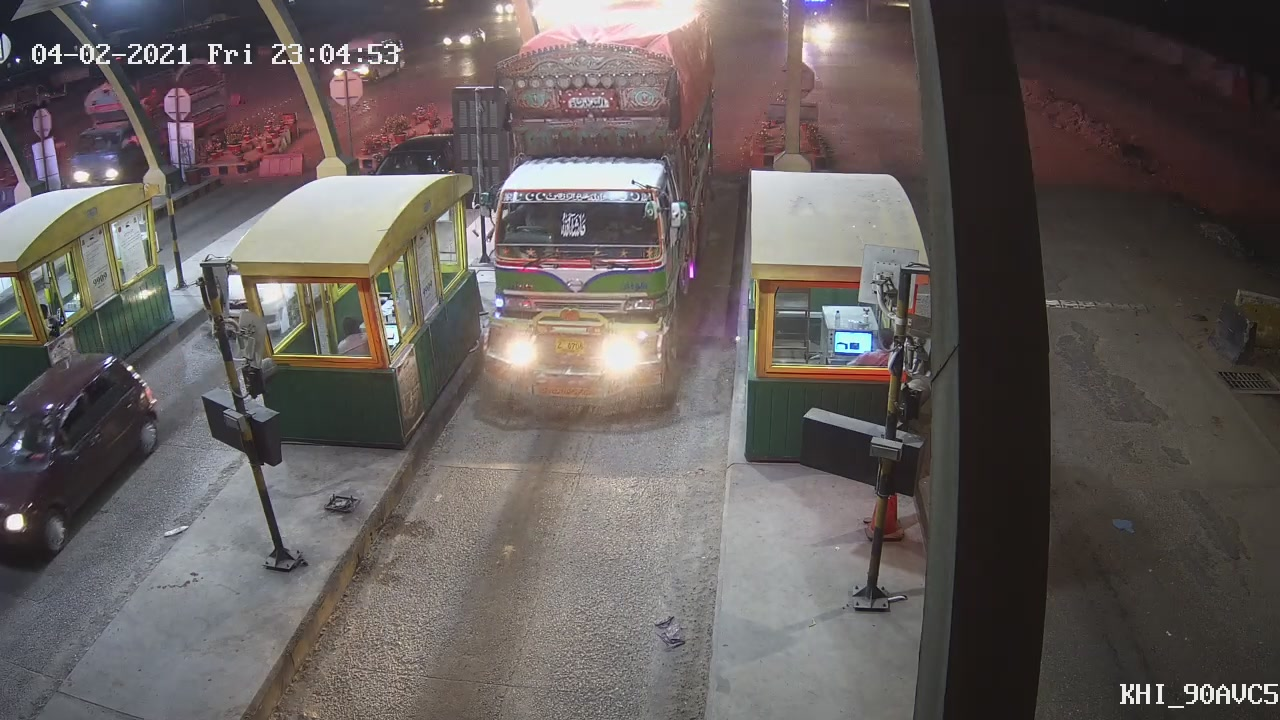F5: (470, 61, 707, 424)
